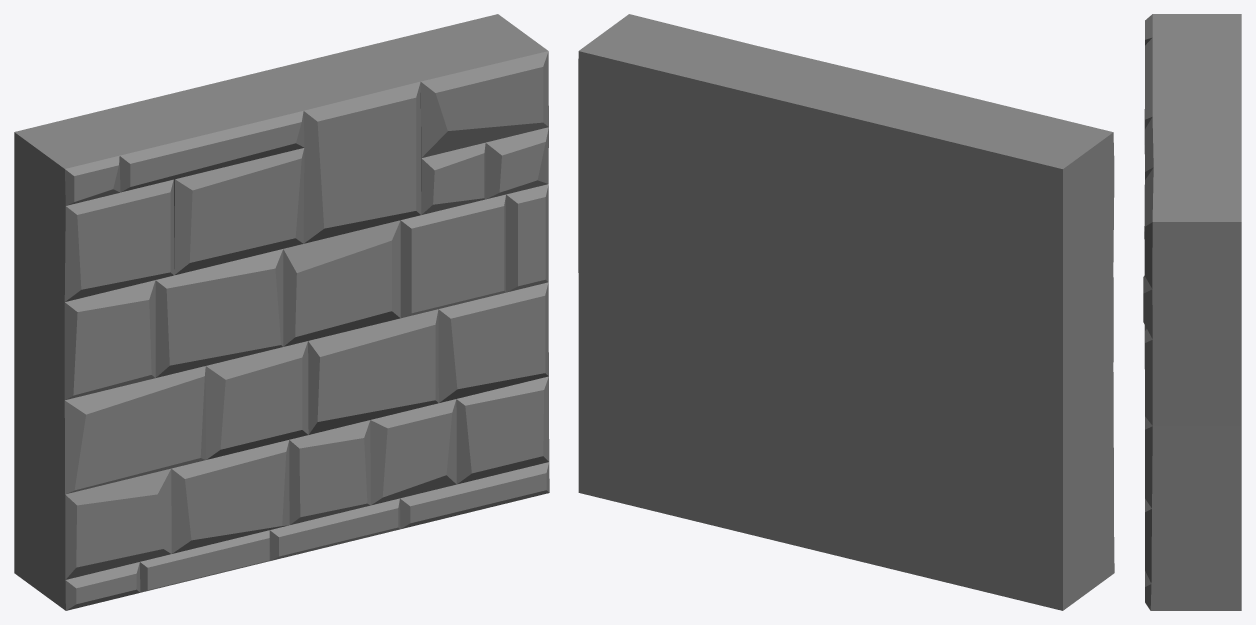
File: parede_padrão.fbx
3 renders of one model, left to right at view 1: azimuth 30°, elevation 25°; view 2: azimuth 150°, elevation 25°; view 3: azimuth 270°, elevation 25°, orthographic. The views are drawn at different scales.
Parts seen in each view (by area): view 1: Cube; view 2: Cube; view 3: Cube.
Boxes of the visible parts, bbox=[...] form: Cube: bbox=[14, 14, 549, 610]; Cube: bbox=[578, 14, 1114, 610]; Cube: bbox=[1143, 14, 1241, 610].
Size of the model in its own units: 5 by 4.35 by 0.9992.
